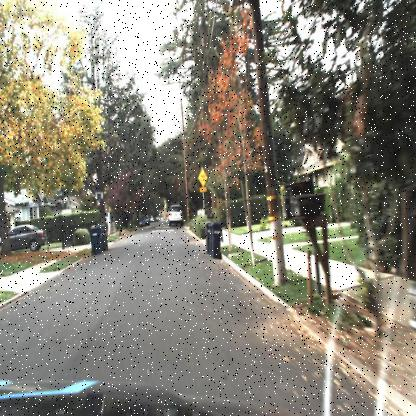car: (2, 219, 48, 258), (168, 201, 184, 226), (137, 209, 151, 228)
